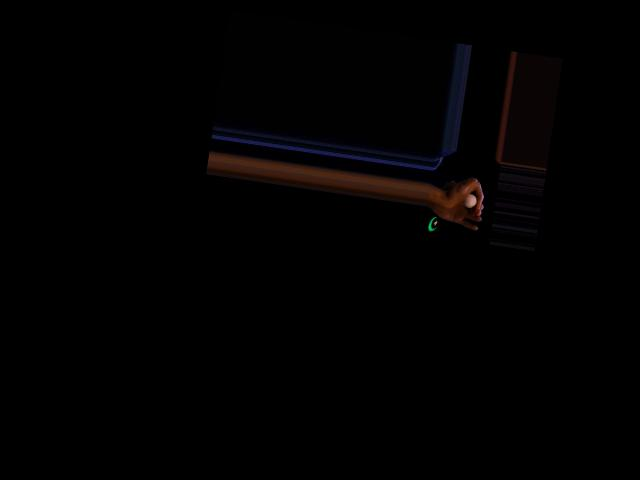egg: (464, 192, 477, 208)
